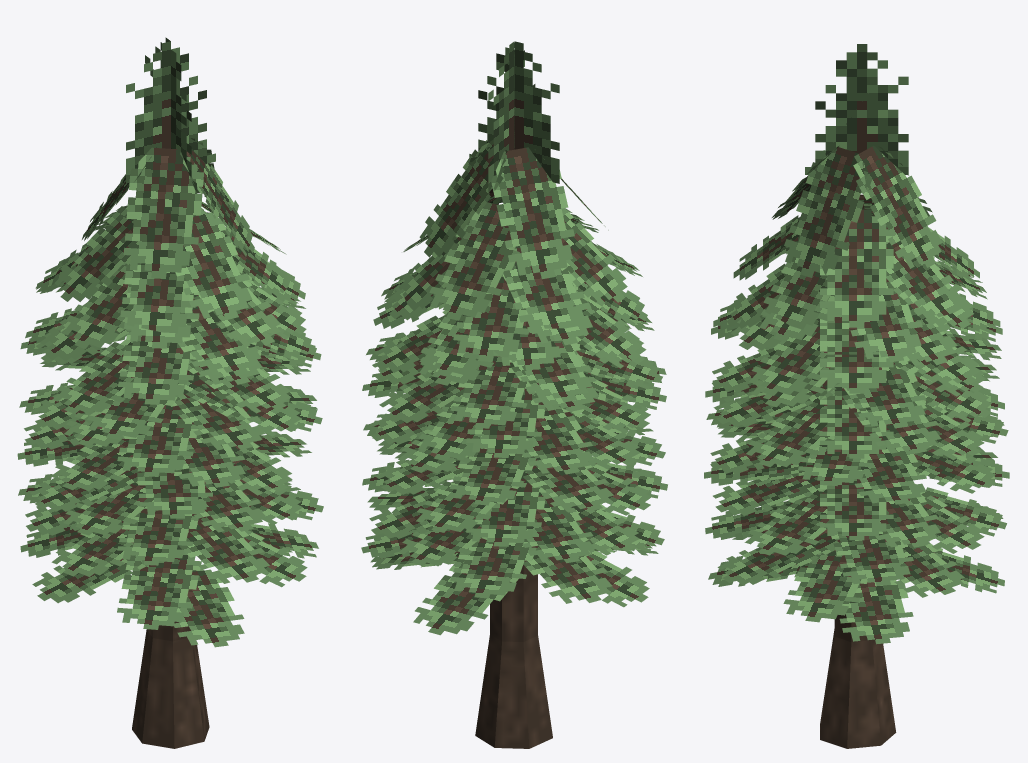
Rendered from Ext-Pino.fbx.
The picture shows the model from 3 angles, left to right: view 1: azimuth 30°, elevation 25°; view 2: azimuth 150°, elevation 25°; view 3: azimuth 270°, elevation 25°; orthographic projection.
Visible parts, largest first — view 1: Hoja_51, tronco, Hoja_79, Hoja_95, Hoja_54, Hoja_77, Hoja_34, Hoja_36, Hoja_58, Hoja_23, Hoja_3, Hoja_28 (+43 smaller); view 2: tronco, Hoja_50, Hoja_80, Hoja_95, Hoja_49, Hoja_38, Hoja_29, Hoja_41, Hoja_5, Hoja_18, Hoja_21, Hoja_77 (+42 smaller); view 3: tronco, Hoja_94, Hoja_48, Hoja_78, Hoja_49, Hoja_63, Hoja_2, Hoja_20, Hoja_11, Hoja_12, Hoja_31, Hoja_37 (+43 smaller).
Part boxes in pixels (<box>): Hoja_51: <box>123,147,204,278</box>; tronco: <box>132,370,209,748</box>; Hoja_79: <box>175,208,252,319</box>; Hoja_95: <box>126,41,215,183</box>; Hoja_54: <box>117,545,201,629</box>; Hoja_77: <box>54,206,139,301</box>; Hoja_34: <box>118,332,196,404</box>; Hoja_36: <box>120,263,195,333</box>; Hoja_58: <box>179,514,269,583</box>; Hoja_23: <box>117,405,198,476</box>; Hoja_3: <box>174,568,244,647</box>; Hoja_28: <box>52,339,134,414</box>; tronco: <box>475,473,552,748</box>; Hoja_50: <box>491,147,574,279</box>; Hoja_80: <box>429,202,519,320</box>; Hoja_95: <box>469,41,559,183</box>; Hoja_49: <box>419,139,507,257</box>; Hoja_38: <box>503,246,584,334</box>; Hoja_29: <box>450,356,530,428</box>; Hoja_41: <box>453,275,528,362</box>; Hoja_5: <box>450,538,536,598</box>; Hoja_18: <box>450,448,536,505</box>; Hoja_21: <box>522,402,594,474</box>; Hoja_77: <box>560,208,627,305</box>; tronco: <box>820,198,896,748</box>; Hoja_94: <box>805,44,908,174</box>; Hoja_48: <box>784,146,871,277</box>; Hoja_78: <box>820,209,893,327</box>; Hoja_49: <box>853,145,942,268</box>; Hoja_63: <box>783,539,867,622</box>; Hoja_2: <box>839,580,913,644</box>; Hoja_20: <box>746,397,834,467</box>; Hoja_11: <box>745,489,834,555</box>; Hoja_12: <box>820,479,893,540</box>; Hoja_31: <box>749,318,827,395</box>; Hoja_37: <box>886,226,962,324</box>.
Size of the model in its own units: 142 by 347 by 141.
